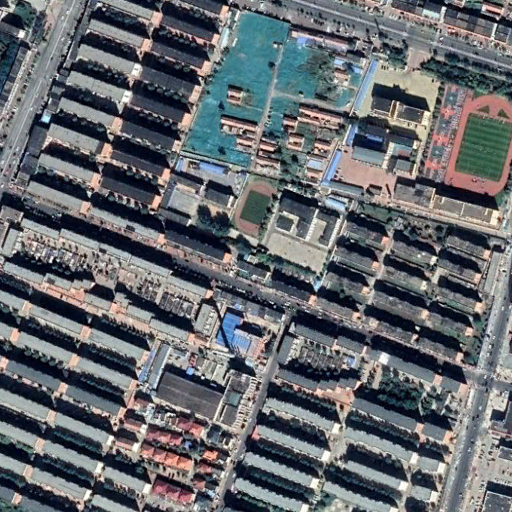cw: (184, 12, 360, 174)
